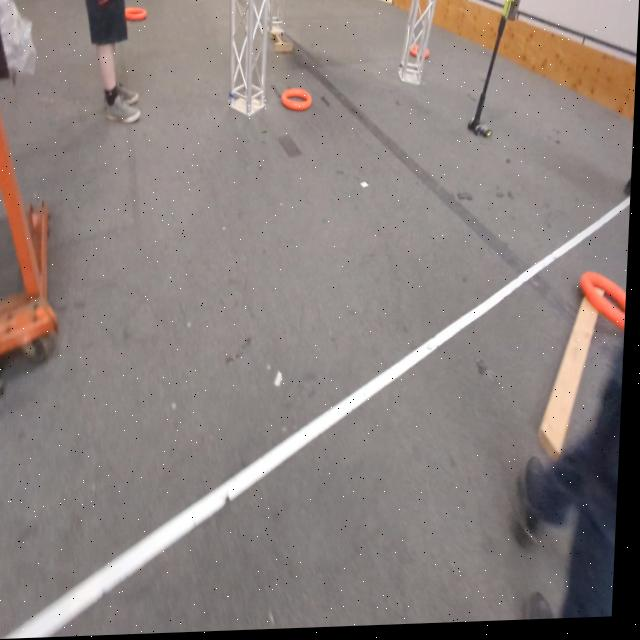note: (583, 273, 630, 341), (282, 88, 315, 115), (123, 5, 149, 27), (410, 46, 432, 67)
